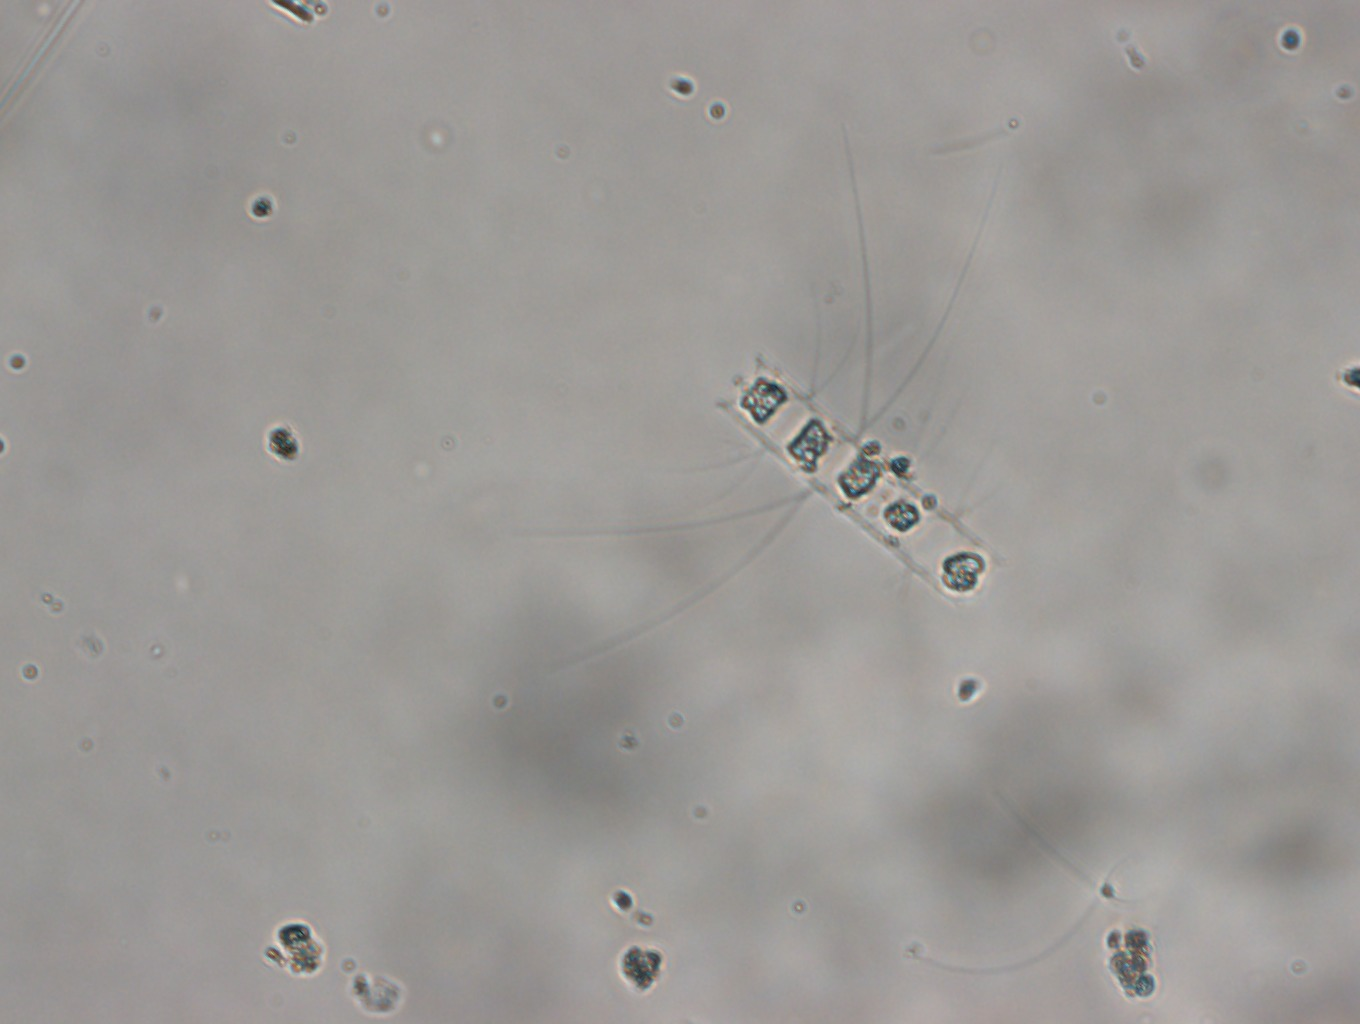chaetoceros: (572, 136, 1022, 670)
